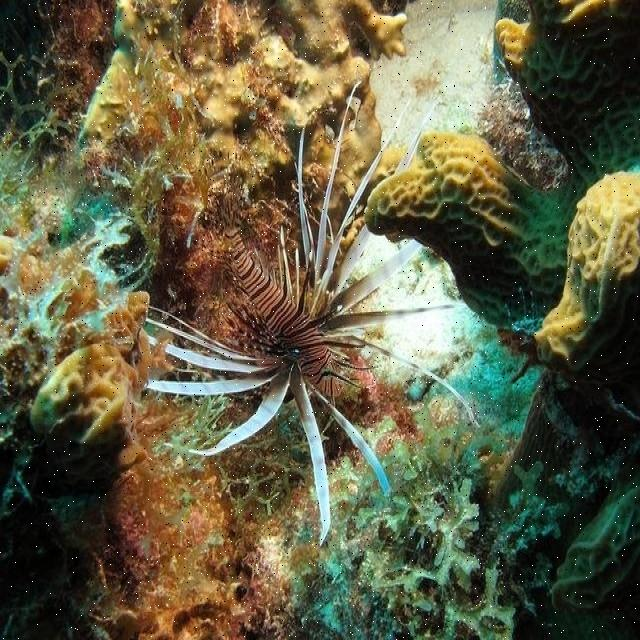fish: (146, 85, 481, 550)
reefs: (363, 0, 639, 325), (534, 171, 639, 374)
